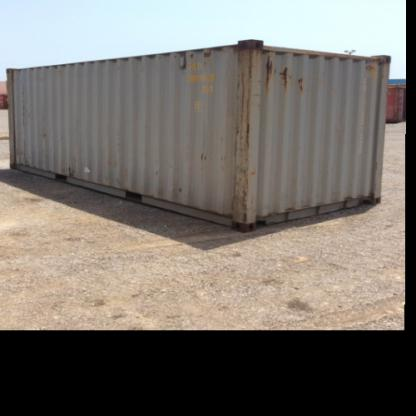Damage: (232, 50, 256, 222), (262, 50, 312, 96), (6, 116, 26, 168), (58, 160, 96, 182), (332, 183, 376, 201), (184, 49, 218, 67), (363, 56, 391, 76), (172, 180, 190, 202), (38, 124, 52, 148), (197, 143, 211, 163)
